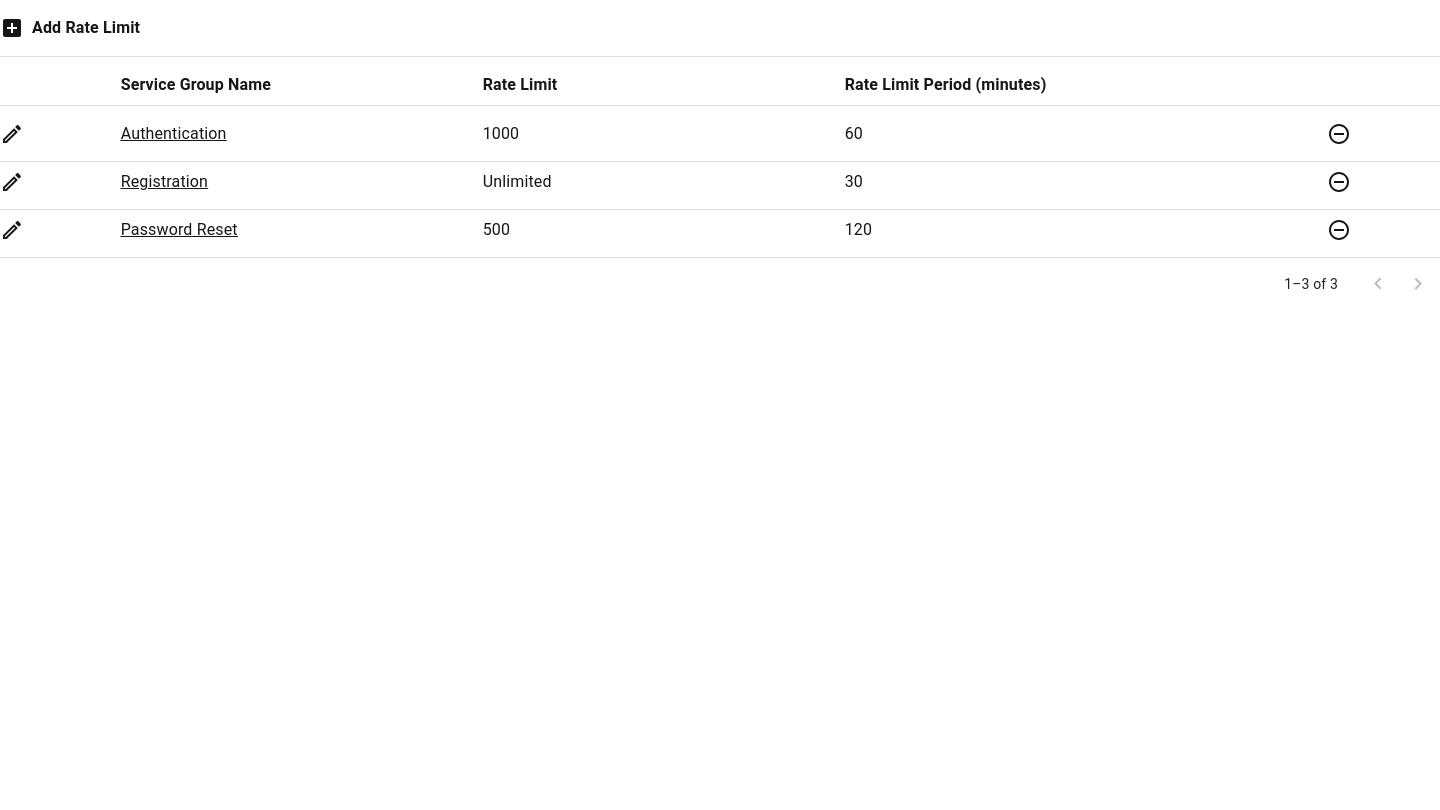
Test: TenantRateLimitConfiguration › Remove Confirmation Dialog › should open remove dialog when remove icon is clicked
Click the 1st icon with test id "RemoveCircleOutlineIcon". click: (1339, 134)
box: [1327,122,1351,146]
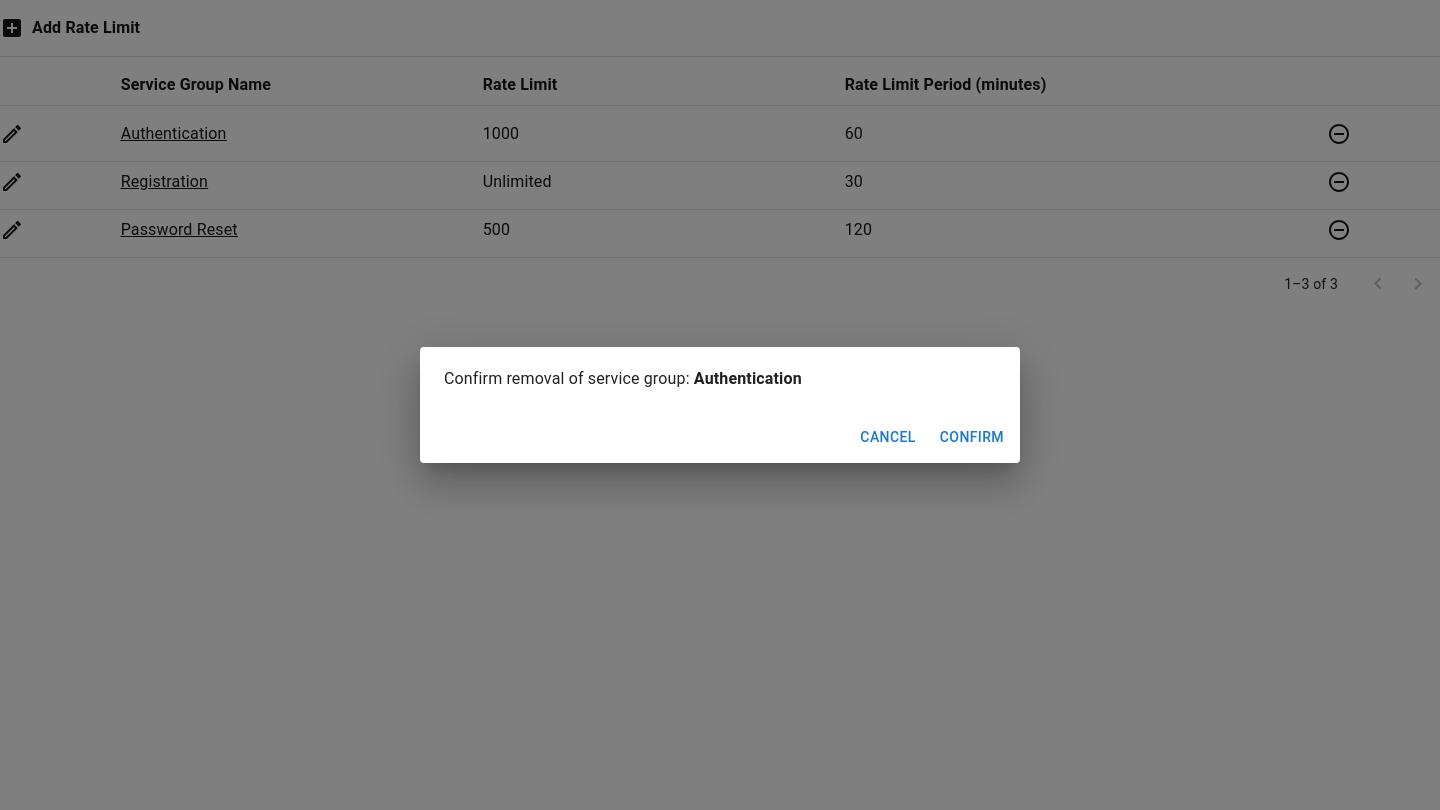
Check: the text "Confirm removal of service group:" is shown, box [444,369,694,388]
